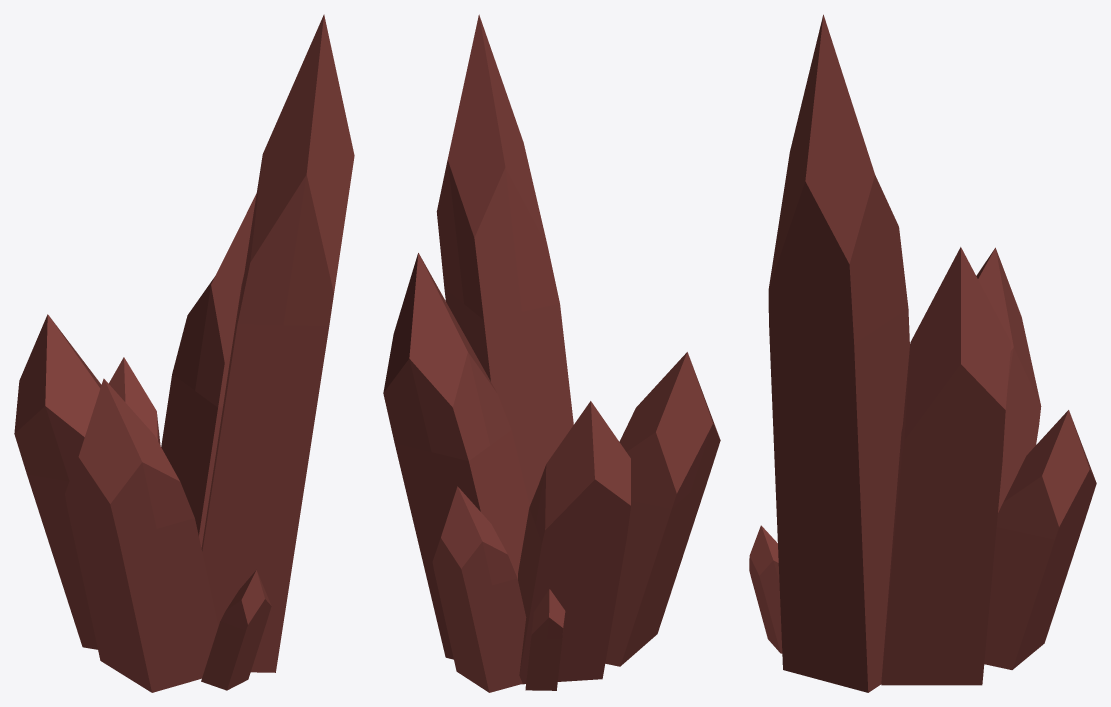
The model's file is Rock2.fbx.
The picture shows the model from 3 angles, left to right: view 1: azimuth 30°, elevation 25°; view 2: azimuth 150°, elevation 25°; view 3: azimuth 270°, elevation 25°; orthographic projection. The views are drawn at different scales.
Parts seen in each view (by area): view 1: Cube.093; view 2: Cube.093; view 3: Cube.093.
Part boxes in pixels (x1,y1,x2,y2): Cube.093: [14, 14, 354, 692]; Cube.093: [383, 14, 720, 692]; Cube.093: [749, 14, 1096, 692].
Bounding box in the file's own units: 934 × 1993 × 907.
